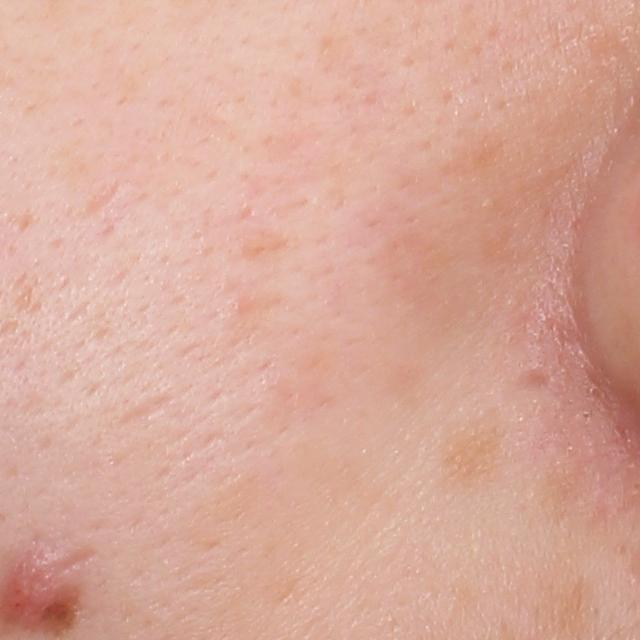atrophic_scar: (79, 176, 124, 218), (513, 364, 554, 394)
